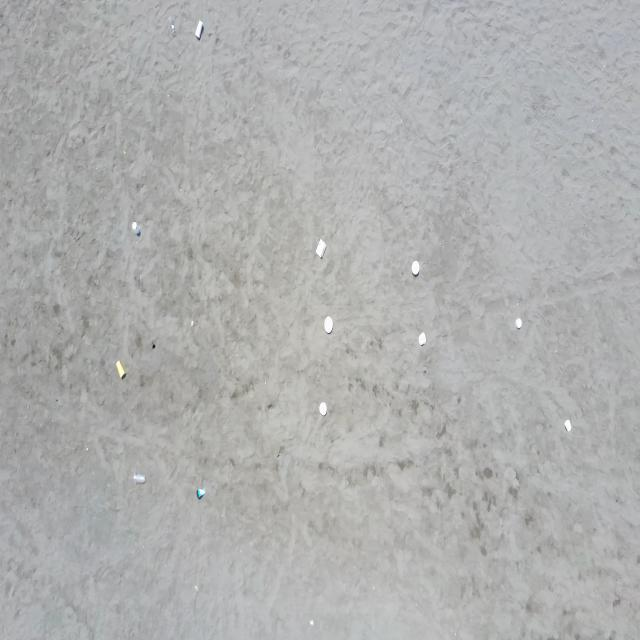take-away-containers: (316, 238, 326, 257), (324, 316, 333, 333), (318, 402, 328, 416), (412, 260, 420, 277), (418, 332, 426, 347), (514, 317, 522, 329), (564, 420, 571, 432)
takeaway-cup: (116, 359, 125, 378), (195, 19, 203, 40), (134, 473, 146, 485), (132, 221, 140, 235), (197, 487, 206, 499), (170, 21, 176, 36)
